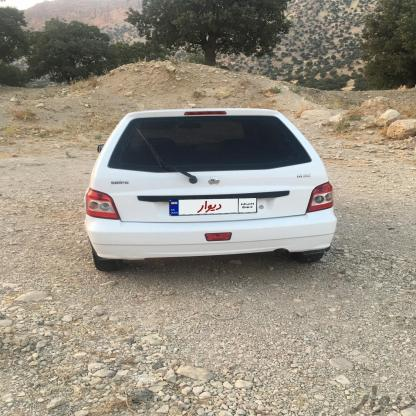Car: (71, 104, 339, 265)
